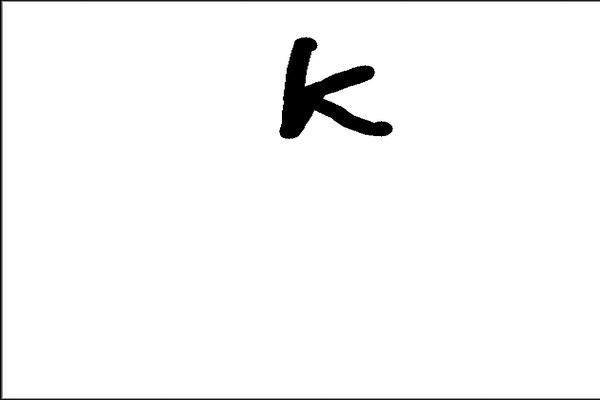K: (267, 27, 398, 147)
